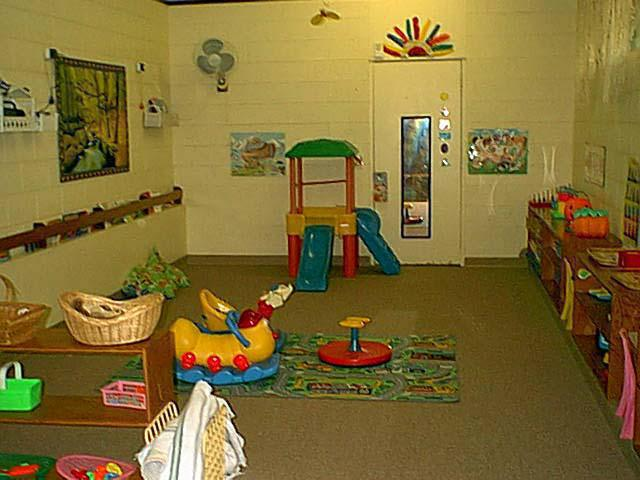Otro Obstaculo: (279, 144, 402, 295), (177, 291, 284, 383), (317, 315, 393, 367), (128, 246, 184, 300)
Puerta: (374, 65, 462, 261)
